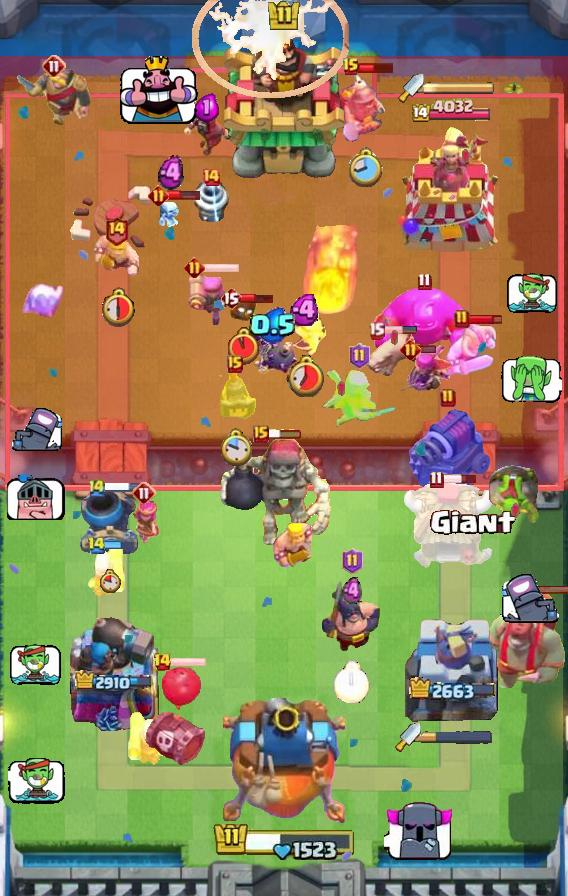archer: (283, 304, 329, 356), (127, 500, 161, 546)
archer-evolution: (393, 345, 453, 395)
bar: (519, 584, 568, 595), (105, 481, 142, 494), (358, 61, 395, 74), (468, 313, 503, 326), (170, 656, 207, 668), (441, 473, 478, 485), (203, 262, 240, 274), (267, 428, 303, 440), (239, 293, 275, 304), (167, 189, 200, 201), (382, 325, 418, 335), (103, 540, 135, 551), (418, 344, 437, 354)
bar-level: (104, 215, 129, 246), (132, 481, 156, 505), (42, 54, 66, 78), (342, 548, 363, 574), (349, 343, 370, 369), (220, 286, 242, 310), (400, 339, 421, 360), (184, 257, 205, 278), (148, 185, 169, 206), (87, 477, 107, 498), (201, 167, 221, 187), (153, 652, 172, 672), (87, 536, 106, 555), (342, 57, 360, 77), (368, 321, 385, 340), (440, 388, 456, 408), (454, 309, 470, 329), (253, 425, 269, 443), (227, 355, 243, 373), (429, 470, 444, 489), (417, 272, 432, 291)
barbarian: (271, 523, 317, 569), (93, 235, 139, 277)
bomber-evolution: (246, 321, 300, 377)
cannoneer-tower: (68, 611, 160, 731)
clock: (286, 354, 327, 397), (98, 286, 135, 327), (334, 661, 370, 703), (349, 147, 384, 189), (219, 428, 252, 468), (228, 327, 259, 365), (100, 569, 121, 593)
dagger-duchess-tower: (394, 126, 512, 256), (405, 611, 501, 731)
dagger-duchess-tower-bar: (421, 730, 493, 744), (424, 81, 496, 95)
elite-barbarian: (444, 320, 498, 376)
elixir: (249, 307, 297, 344), (289, 294, 323, 326), (158, 155, 184, 191), (194, 93, 219, 122), (342, 576, 362, 607)
emote: (119, 55, 198, 126), (384, 800, 456, 864), (502, 574, 561, 625), (501, 354, 562, 403), (7, 475, 66, 520), (8, 758, 65, 804), (10, 408, 62, 453), (10, 644, 62, 686), (506, 273, 557, 314)
executioner: (321, 576, 383, 654)
fire-spirit: (228, 294, 258, 322)
firecracker: (187, 268, 231, 328), (126, 709, 168, 767), (85, 541, 127, 599)
goblin-ball: (488, 464, 542, 526)
guard: (213, 365, 257, 425)
hog: (361, 330, 419, 380)
ice-spirit-evolution: (20, 280, 66, 322)
king-tower: (224, 29, 344, 181), (223, 698, 345, 826)
king-tower-bar: (212, 818, 356, 860)
knight: (16, 67, 92, 126)
miner: (335, 71, 397, 143)
mortar: (80, 490, 140, 554)
skeleton: (157, 198, 185, 232)
tower-bar: (409, 677, 498, 704), (412, 98, 494, 125), (75, 670, 154, 694)
wizard: (180, 107, 232, 157)
zappy: (189, 176, 233, 226)
